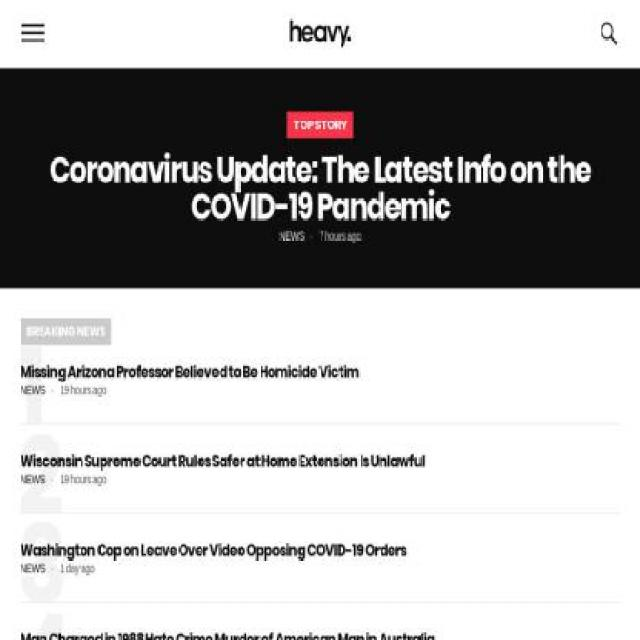button: (0, 68, 640, 289), (20, 334, 620, 424), (20, 424, 620, 513), (20, 513, 620, 602), (19, 602, 621, 640), (578, 0, 639, 69), (289, 18, 354, 48), (20, 14, 46, 52), (265, 86, 289, 120), (295, 86, 319, 120), (325, 86, 349, 120), (355, 86, 379, 120)
field: (194, 0, 446, 68)
